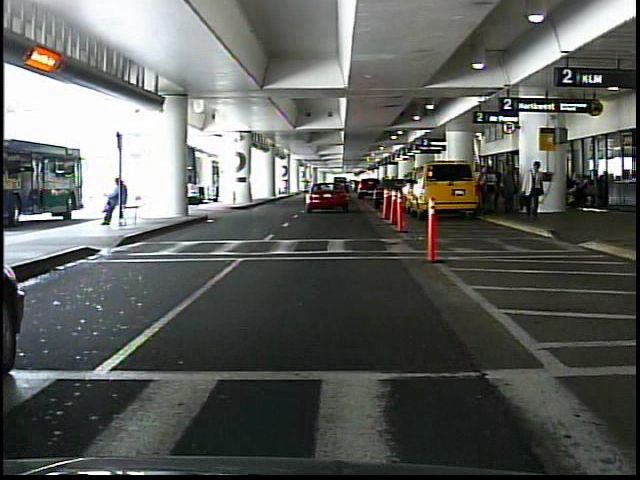person: (521, 159, 546, 217), (501, 163, 519, 219), (484, 166, 498, 211)
